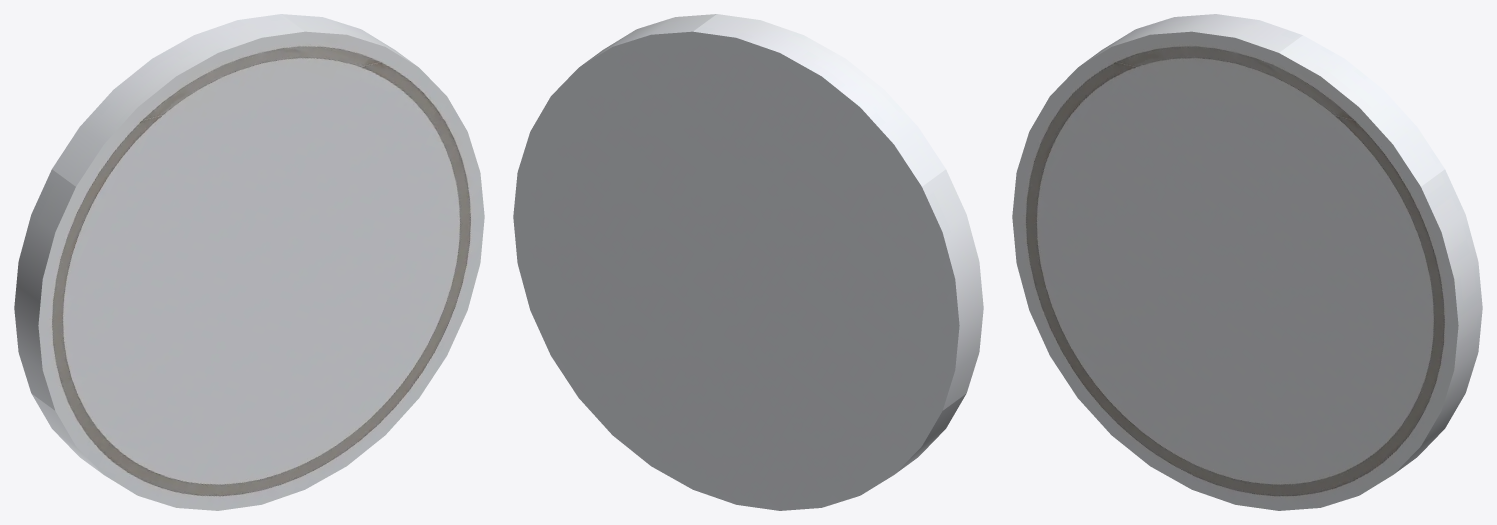
Rendered from housing__plinth.glb.
The picture shows the model from 3 angles, left to right: view 1: azimuth 30°, elevation 25°; view 2: azimuth 150°, elevation 25°; view 3: azimuth 330°, elevation 25°; orthographic projection.
Parts seen in each view (by area): view 1: geometry_0; view 2: geometry_0; view 3: geometry_0.
Part boxes in pixels (left/top/right/bottom): geometry_0: left=14, top=14, right=484, bottom=510; geometry_0: left=513, top=14, right=983, bottom=510; geometry_0: left=1012, top=14, right=1482, bottom=510.
Bounding box in the file's own units: 0.192 × 0.192 × 0.018.
1 material, 1 textured.
